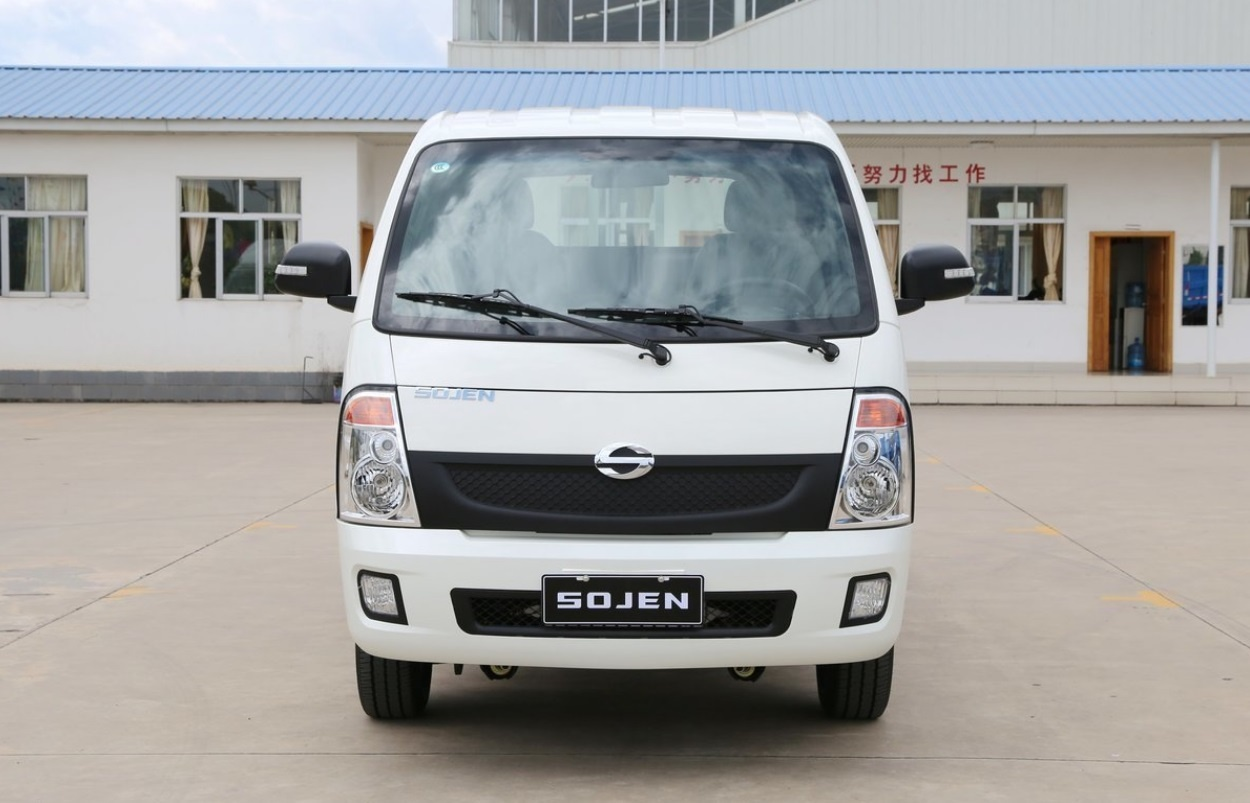truck: (298, 101, 957, 725)
